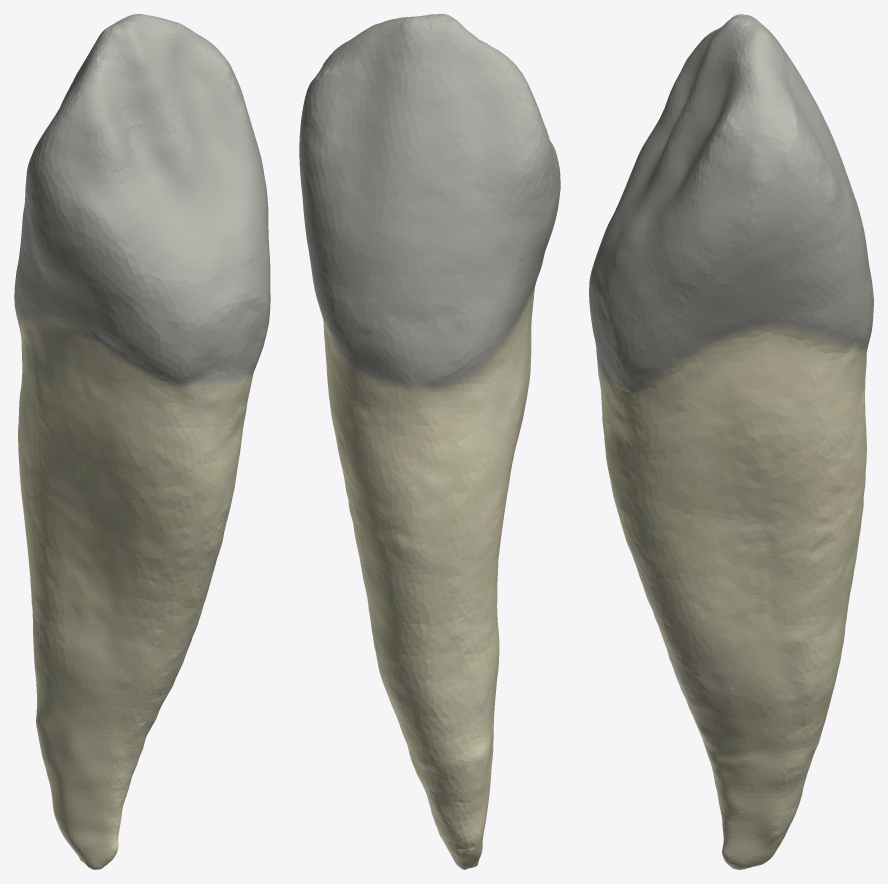
File: 33 - canino inferior esquerdo - quiz.glb
3 renders of one model, left to right at view 1: azimuth 30°, elevation 25°; view 2: azimuth 150°, elevation 25°; view 3: azimuth 270°, elevation 25°, orthographic. The views are drawn at different scales.
Visible parts, largest first — view 1: 3MFMeshParent_0; view 2: 3MFMeshParent_0; view 3: 3MFMeshParent_0.
Part boxes in pixels (x1,y1,x2,y2): 3MFMeshParent_0: [14, 14, 270, 869]; 3MFMeshParent_0: [299, 14, 560, 869]; 3MFMeshParent_0: [589, 14, 873, 869].
Bounding box in the file's own units: 0.1847 × 0.6665 × 0.1985.
1 material, 1 textured.
